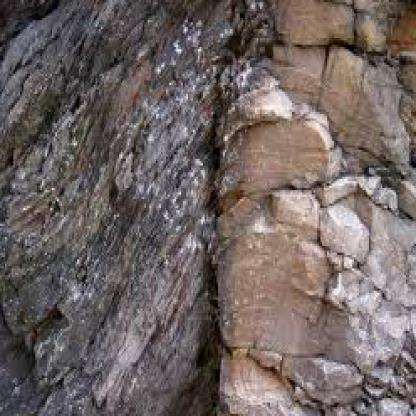Metamorphic_Quartize: (0, 0, 225, 414), (232, 0, 414, 414)
